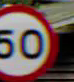Speed limit: (0, 3, 58, 76)
